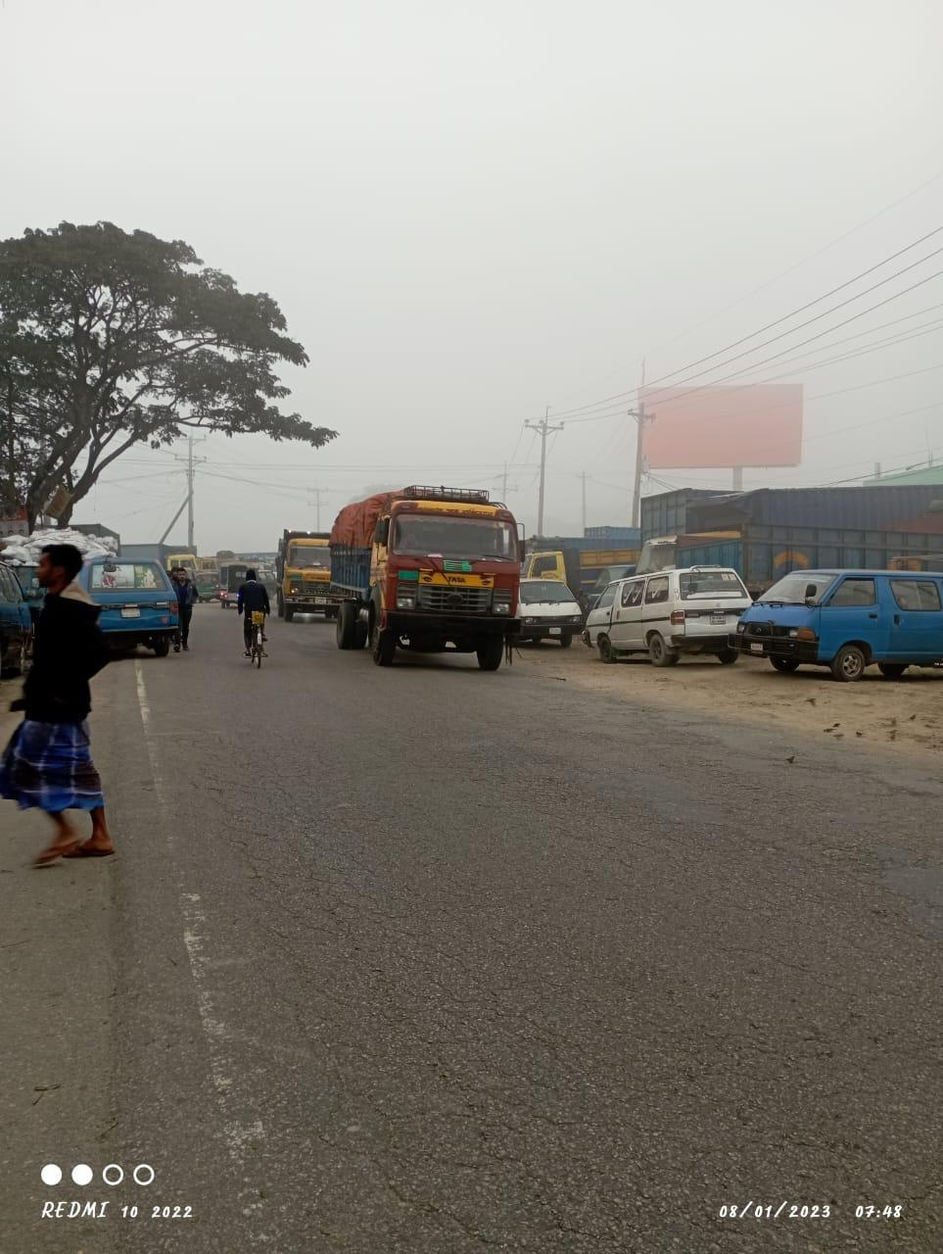Car: (734, 555, 942, 683), (588, 571, 741, 675), (83, 546, 184, 667), (509, 571, 589, 651), (212, 552, 255, 611)
Truck: (325, 473, 529, 694), (274, 518, 331, 628)
